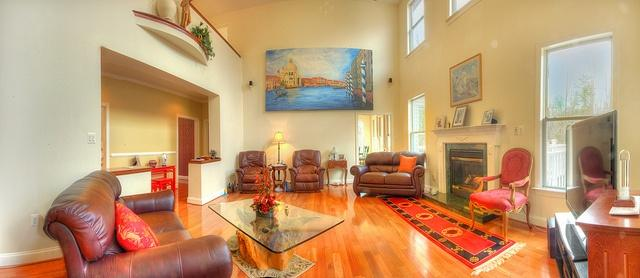Kursi: (467, 146, 533, 244)
